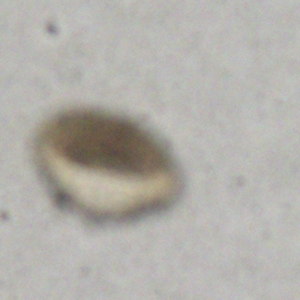Fasciola_hepatica_egg: (22, 104, 183, 224)
